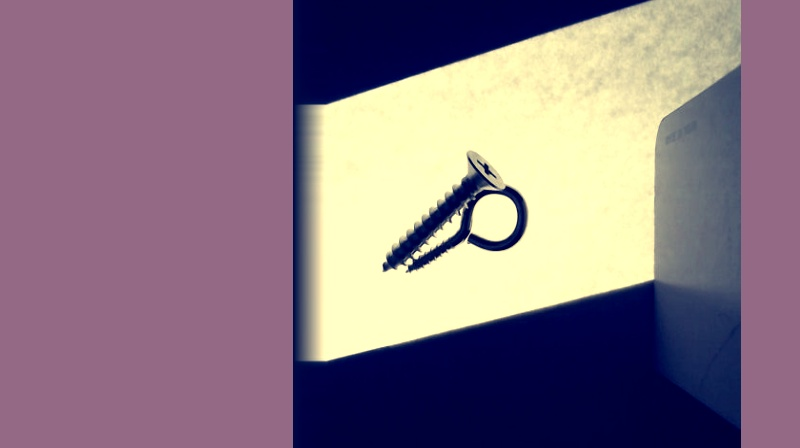O001: (404, 182, 529, 273)
S001: (381, 147, 505, 271)
